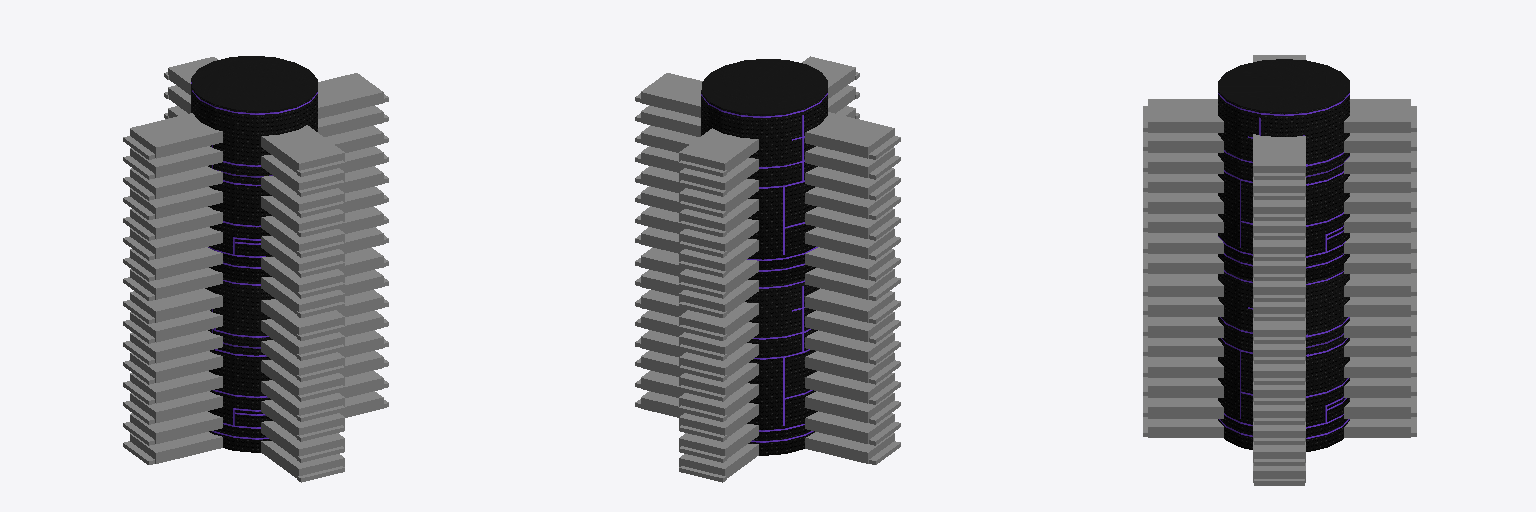
3 renders of one model, left to right at view 1: azimuth 30°, elevation 25°; view 2: azimuth 150°, elevation 25°; view 3: azimuth 270°, elevation 25°, orthographic.
Visible parts, largest first — view 1: Cylinder001, Box050, Box054, Box067, Box046, Box069, Box036, Box012, Box060, Box072, Box024, Box049 (+21 smaller); view 2: Cylinder001, Box050, Box054, Box067, Box046, Box069, Box036, Box012, Box060, Box072, Box024, Box083 (+21 smaller); view 3: Cylinder001, Box054, Box043, Box007, Box079, Box085, Box031, Box019, Box090, Box014, Box064, Box038 (+21 smaller).
Boxes of the visible parts, x1,y1,x2,y2 form: Cylinder001: [191, 56, 317, 452]; Box050: [130, 73, 383, 158]; Box054: [168, 57, 344, 172]; Box067: [130, 106, 383, 177]; Box046: [130, 247, 383, 322]; Box069: [130, 125, 383, 198]; Box036: [130, 290, 383, 363]; Box012: [130, 370, 383, 443]; Box060: [130, 206, 383, 279]; Box072: [130, 166, 383, 239]; Box024: [130, 330, 383, 403]; Box049: [130, 146, 383, 218]; Cylinder001: [701, 59, 827, 455]; Box050: [641, 73, 894, 158]; Box054: [679, 56, 855, 172]; Box067: [641, 105, 894, 177]; Box046: [641, 247, 894, 322]; Box069: [641, 125, 894, 198]; Box036: [641, 290, 894, 362]; Box012: [641, 370, 894, 443]; Box060: [641, 206, 894, 279]; Box072: [641, 166, 894, 238]; Box024: [641, 330, 894, 403]; Box083: [641, 227, 894, 299]; Cylinder001: [1218, 59, 1349, 451]; Box054: [1148, 99, 1410, 132]; Box043: [1148, 274, 1410, 296]; Box007: [1148, 398, 1410, 418]; Box079: [1148, 153, 1410, 173]; Box085: [1148, 193, 1410, 213]; Box031: [1148, 317, 1410, 337]; Box019: [1148, 357, 1410, 377]; Box090: [1148, 233, 1410, 253]; Box014: [1148, 378, 1410, 397]; Box064: [1148, 133, 1410, 152]; Box038: [1148, 297, 1410, 316].
Size of the model in its own units: 4.56 by 6.19 by 4.49.
3 materials, 1 textured.